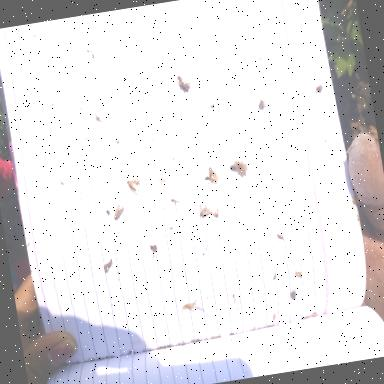pbw: (110, 200, 126, 223), (126, 176, 142, 198), (196, 201, 212, 222), (207, 165, 219, 186), (208, 206, 222, 219)
